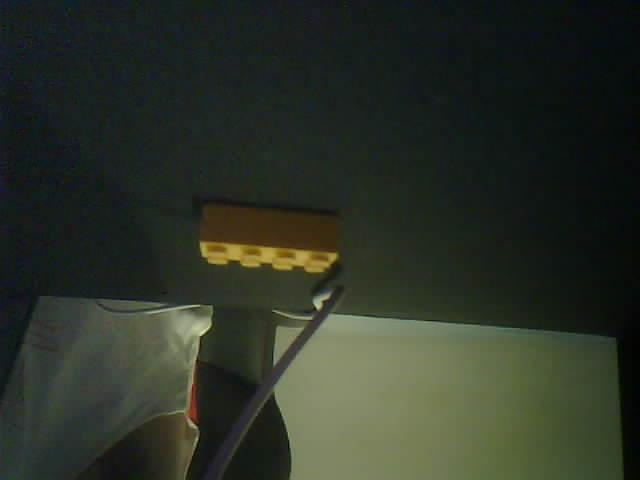lego: (198, 203, 341, 274)
